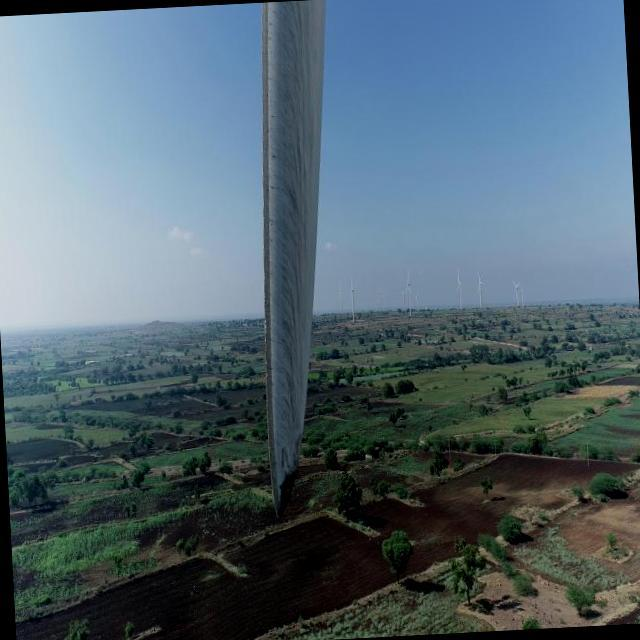Dirt: (265, 0, 333, 514)
Oil LEAKAGE: (276, 473, 299, 515)
